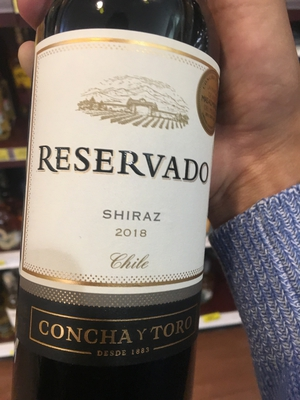reservado shiraz: (20, 6, 216, 397)
